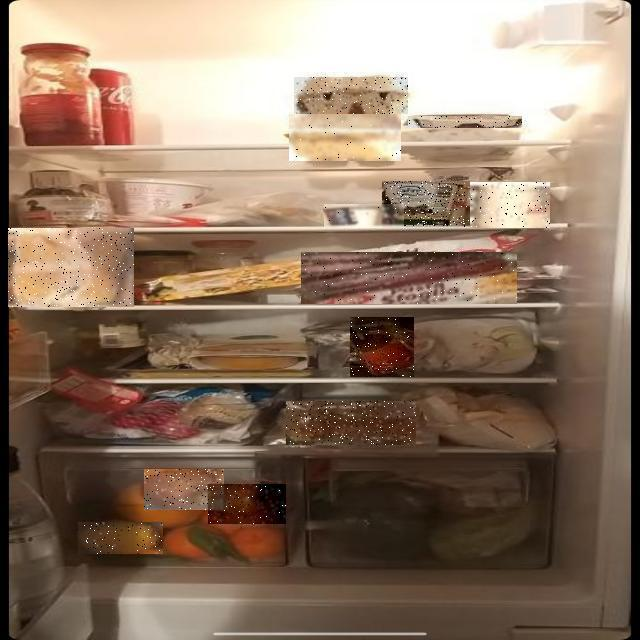Apple: (145, 469, 225, 510), (209, 485, 287, 525)
Cheese: (8, 228, 134, 307), (287, 401, 417, 445), (350, 317, 414, 377)
Eggs: (289, 114, 401, 161), (294, 77, 408, 114), (408, 117, 522, 129)
Ham: (301, 252, 517, 304)
Lemon: (78, 522, 163, 554)
Yoghurt: (382, 181, 470, 227), (470, 182, 550, 228), (324, 204, 404, 228)
